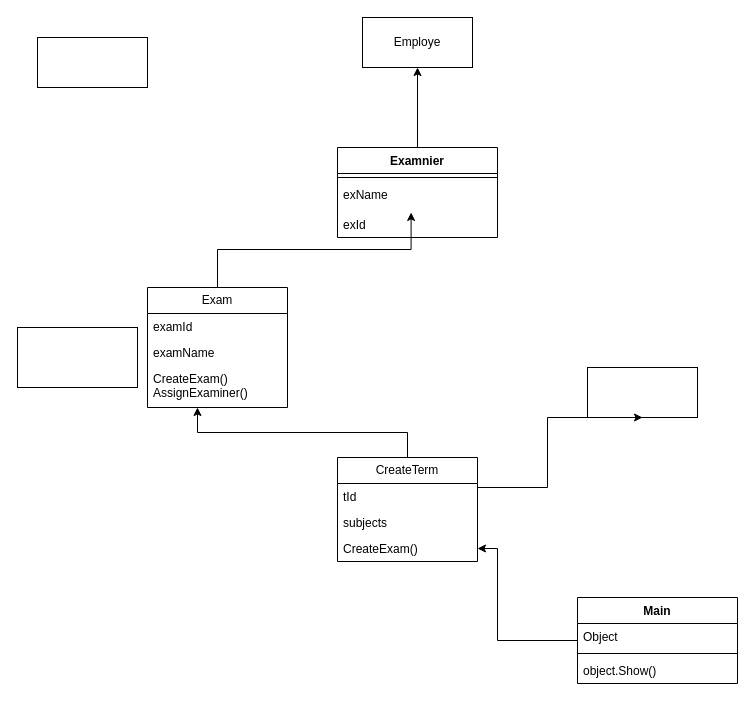
The diagram is 755 pixels wide and 704 high, and some of its shapes have lost their labels. The shapes that lost their labels are listed below. From the top down, each one's centre as x and y in pixels, then its label:
At point 92,62: "Namespace Project1".
At point 77,357: "examDate examRoom".
At point 642,392: "«interface» Term CreateExam()".
